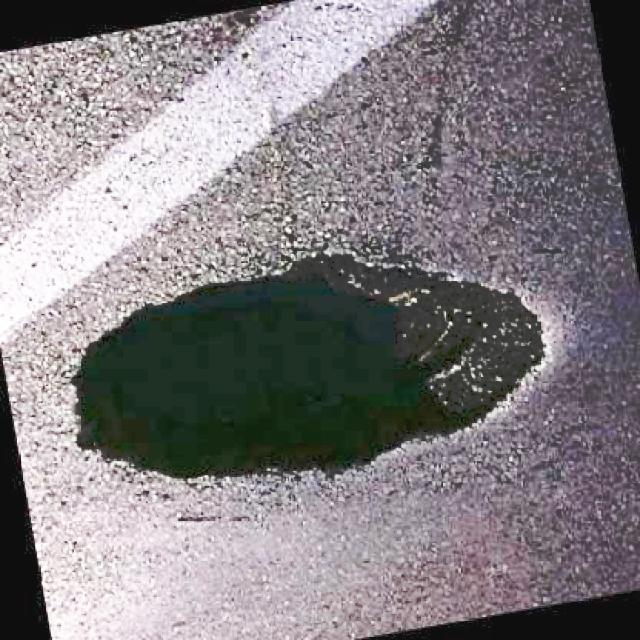pothole: (72, 242, 548, 483)
